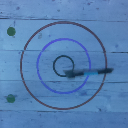Axe Tip: (65, 71, 76, 73)
